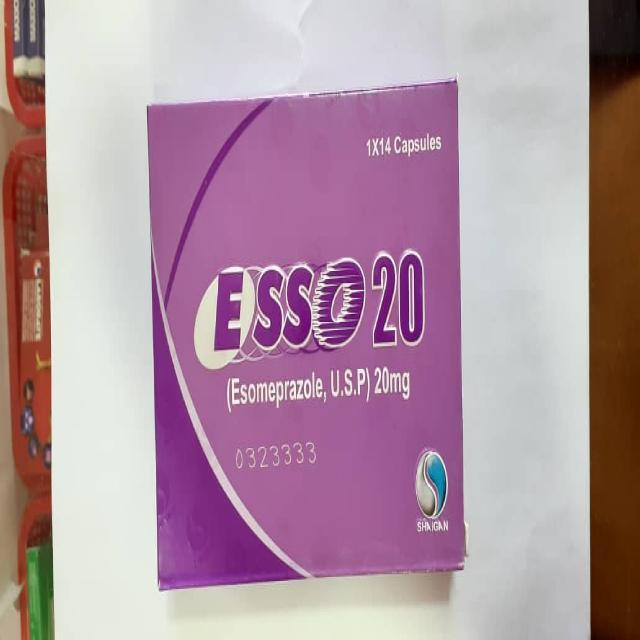drug-name: (210, 248, 424, 360)
